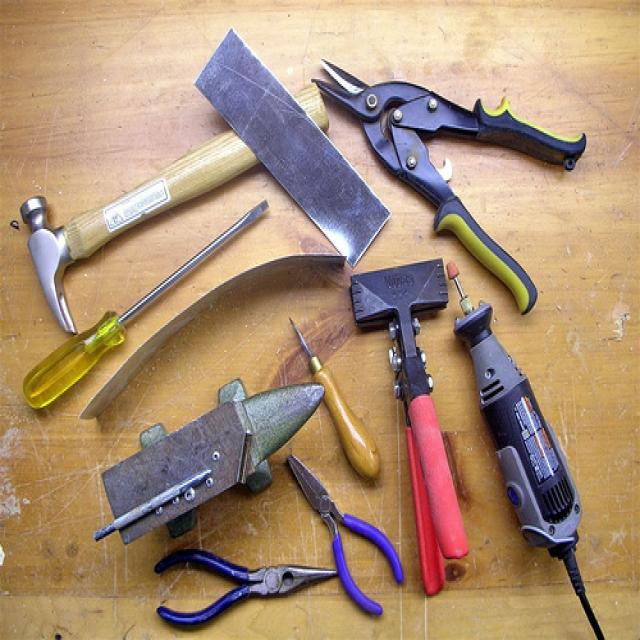hammer: (2, 121, 316, 322)
screw driver: (60, 188, 328, 380)
